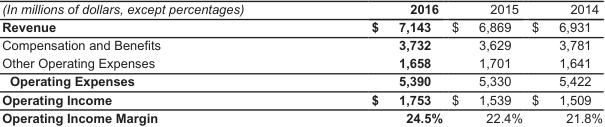table: (1, 1, 602, 124)
table column: (1, 1, 306, 124), (306, 1, 446, 124), (446, 1, 526, 124), (526, 1, 602, 124)
table column header: (1, 1, 602, 17)
table row: (1, 89, 602, 108), (1, 17, 602, 35), (1, 35, 602, 53), (1, 53, 602, 71), (1, 71, 602, 89), (1, 1, 602, 17), (1, 108, 602, 124)
